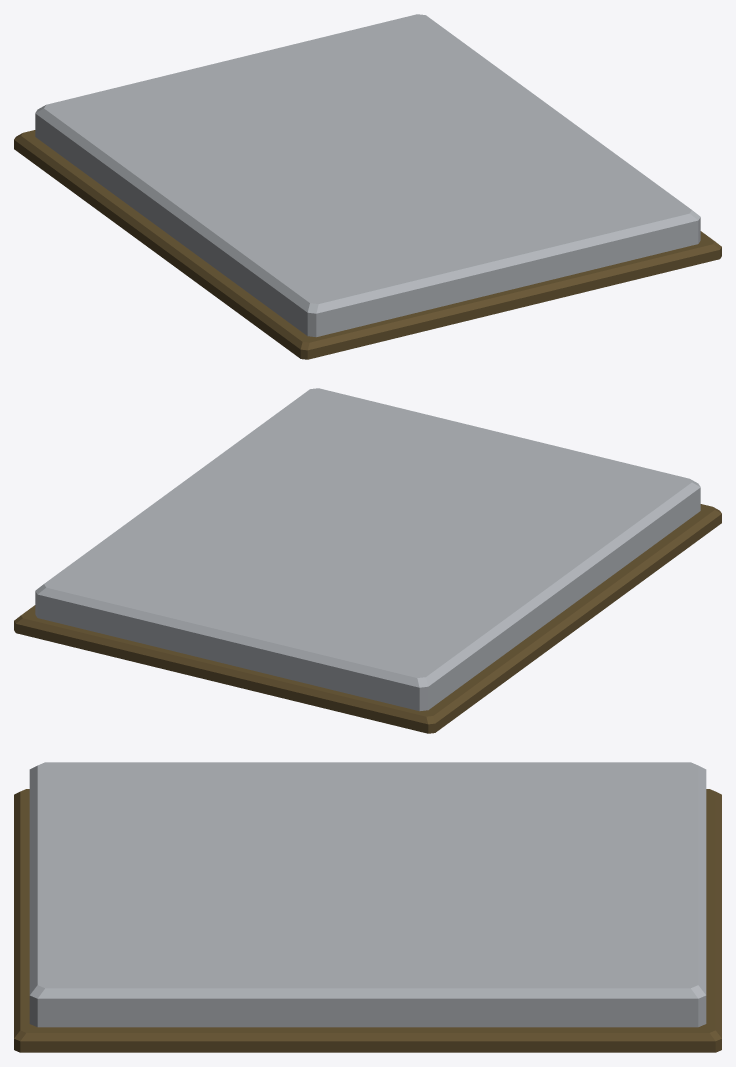
Rendered from L129_SERVICE_CPU.fbx.
The picture shows the model from 3 angles, top to bottom: view 1: azimuth 30°, elevation 25°; view 2: azimuth 150°, elevation 25°; view 3: azimuth 270°, elevation 25°; orthographic projection. The views are drawn at different scales.
Parts seen in each view (by area): view 1: SERVICE_CPU__Steel, SERVICE_CPU__FR4; view 2: SERVICE_CPU__Steel, SERVICE_CPU__FR4; view 3: SERVICE_CPU__Steel, SERVICE_CPU__FR4.
Boxes of the visible parts, left/top/right/bottom form: SERVICE_CPU__Steel: left=35, top=14, right=700, bottom=337; SERVICE_CPU__FR4: left=14, top=130, right=721, bottom=359; SERVICE_CPU__Steel: left=35, top=388, right=700, bottom=711; SERVICE_CPU__FR4: left=14, top=504, right=721, bottom=733; SERVICE_CPU__Steel: left=29, top=762, right=706, bottom=1027; SERVICE_CPU__FR4: left=14, top=789, right=721, bottom=1052.
Bounding box in the file's own units: 37.5 × 3.7 × 45.
